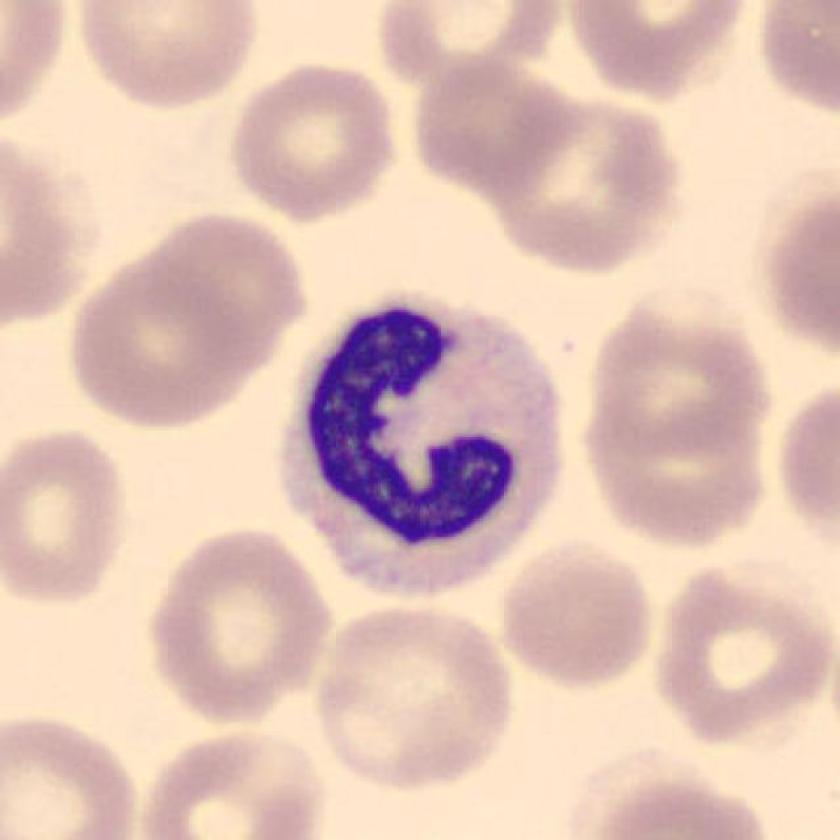neutrophil: (283, 293, 563, 596)
